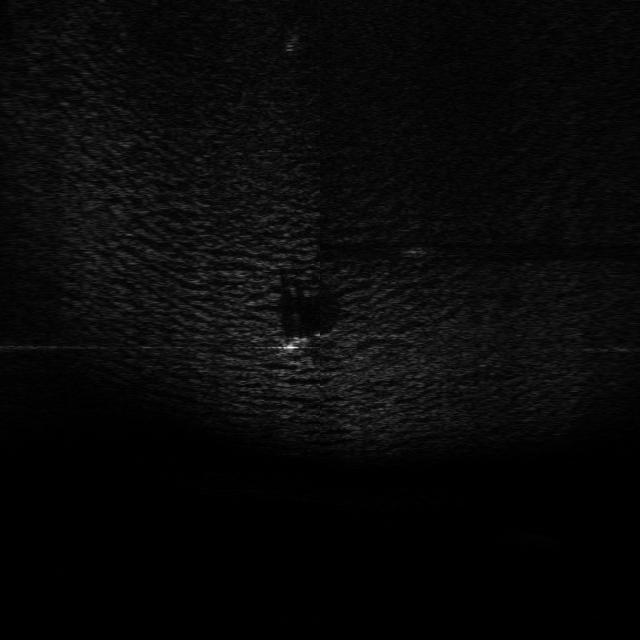plane: (268, 330, 344, 359)
